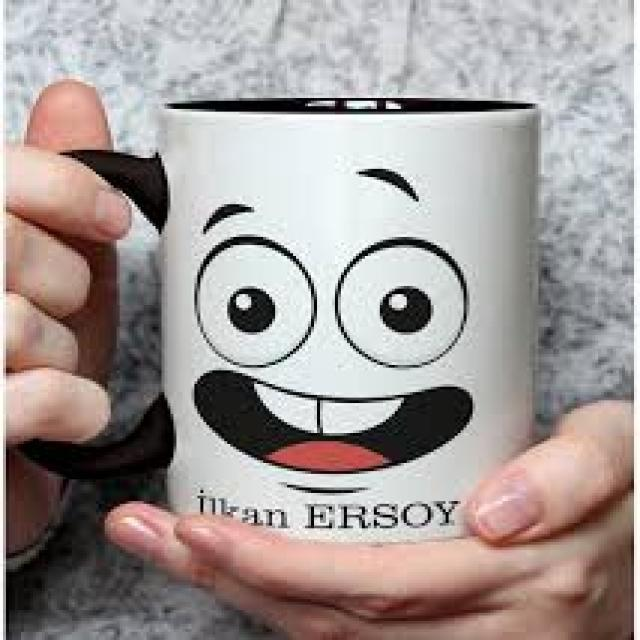taza: (23, 100, 540, 544)
